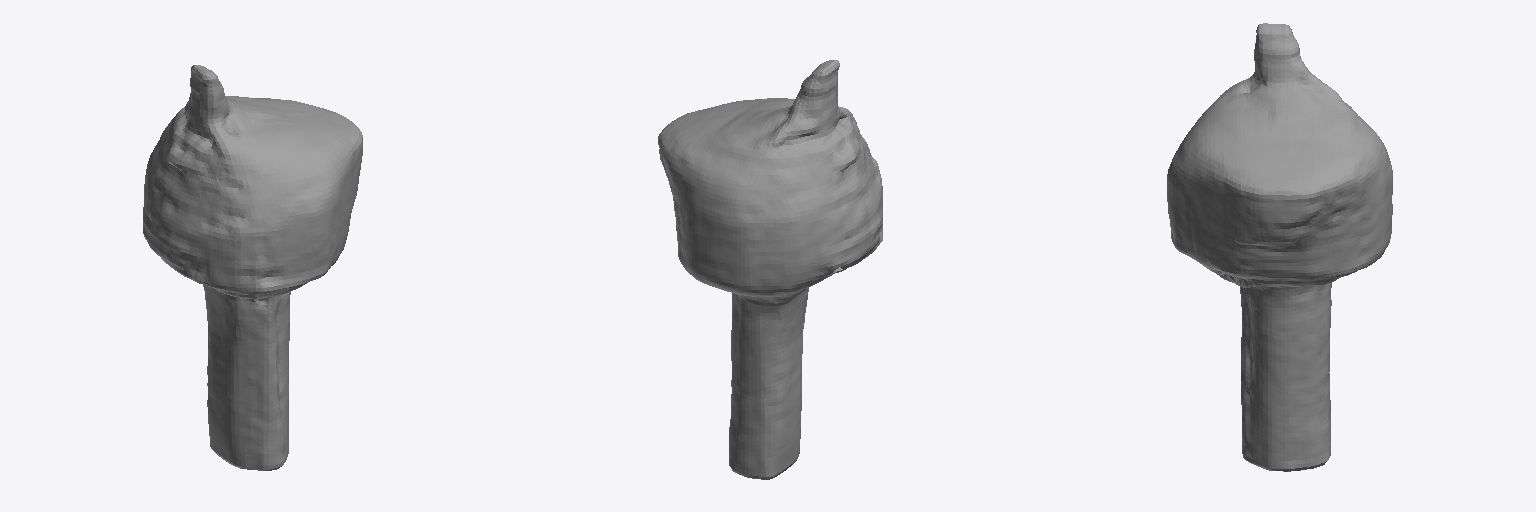
File: model_with_uv.obj
3 renders of one model, left to right at view 1: azimuth 30°, elevation 25°; view 2: azimuth 150°, elevation 25°; view 3: azimuth 270°, elevation 25°, orthographic.
Parts seen in each view (by area): view 1: sdf_0; view 2: sdf_0; view 3: sdf_0.
Part boxes in pixels (left/top/right/bottom): sdf_0: left=143, top=65, right=362, bottom=470; sdf_0: left=658, top=60, right=882, bottom=479; sdf_0: left=1167, top=23, right=1392, bottom=471.
Bounding box in the file's own units: 0.961 × 1.91 × 0.9597.